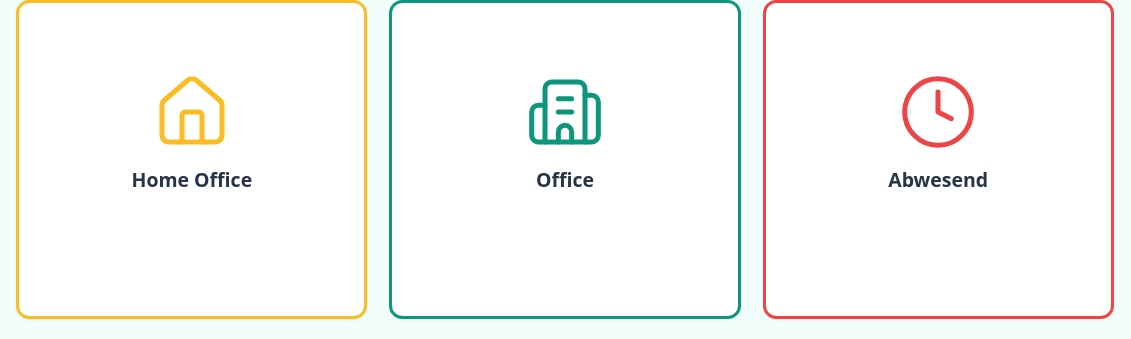
Test case: Check-in page: choice cards › shows the check-in button only once a card is chosen
Expected: the button "Einchecken" is not shown
Click the text "Office". click: (565, 179)
box: [536,165,594,194]
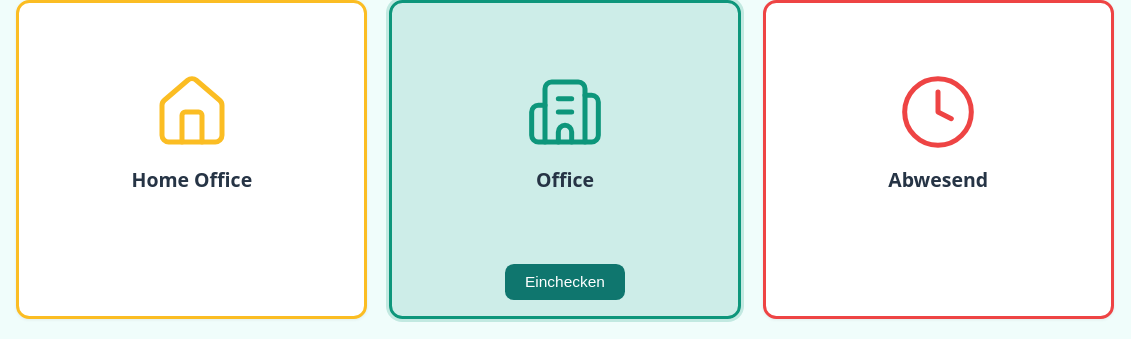
Expected: the button "Einchecken" is enabled, [505,264,625,300]
